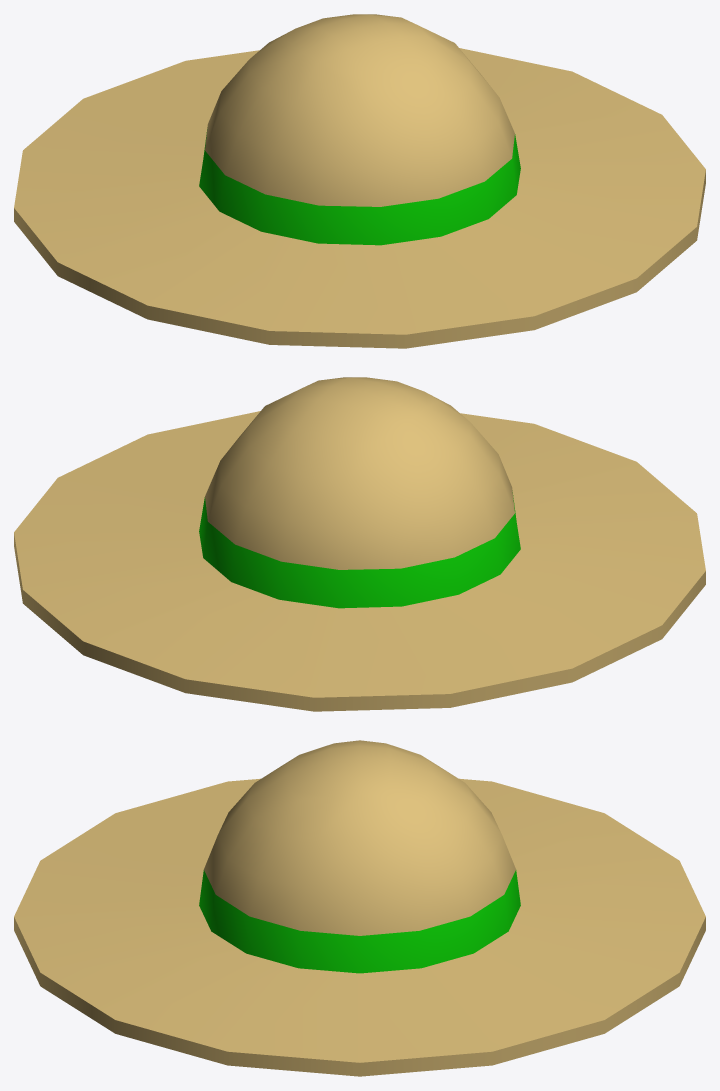
File: StickMan_08_Hat.fbx
The picture shows the model from 3 angles, top to bottom: view 1: azimuth 30°, elevation 25°; view 2: azimuth 150°, elevation 25°; view 3: azimuth 270°, elevation 25°; orthographic projection.
Visible parts, largest first — view 1: Hat; view 2: Hat; view 3: Hat.
Boxes of the visible parts, x1,y1,x2,y2 form: Hat: (14,14,705,348); Hat: (14,377,705,711); Hat: (14,740,705,1076).
Bounding box in the file's own units: 46.78 × 12.9 × 46.78.
Materials: 1 (1 with a texture image).
